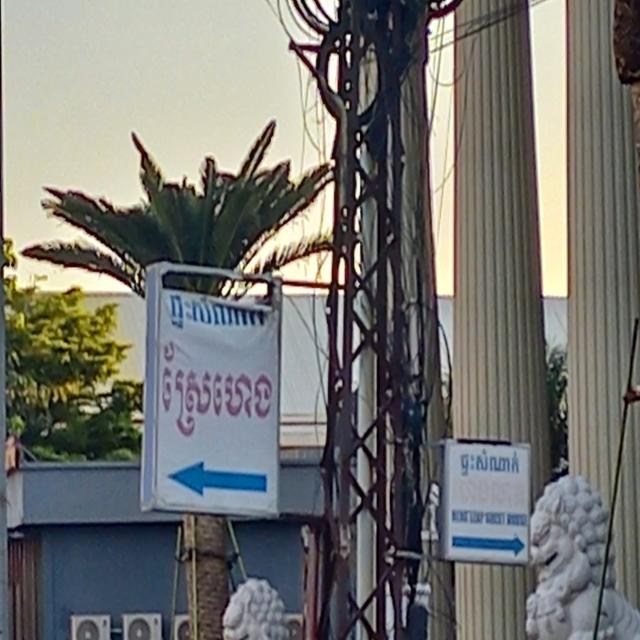Yolov11_80vkh: (158, 338, 274, 437), (458, 448, 522, 479)
